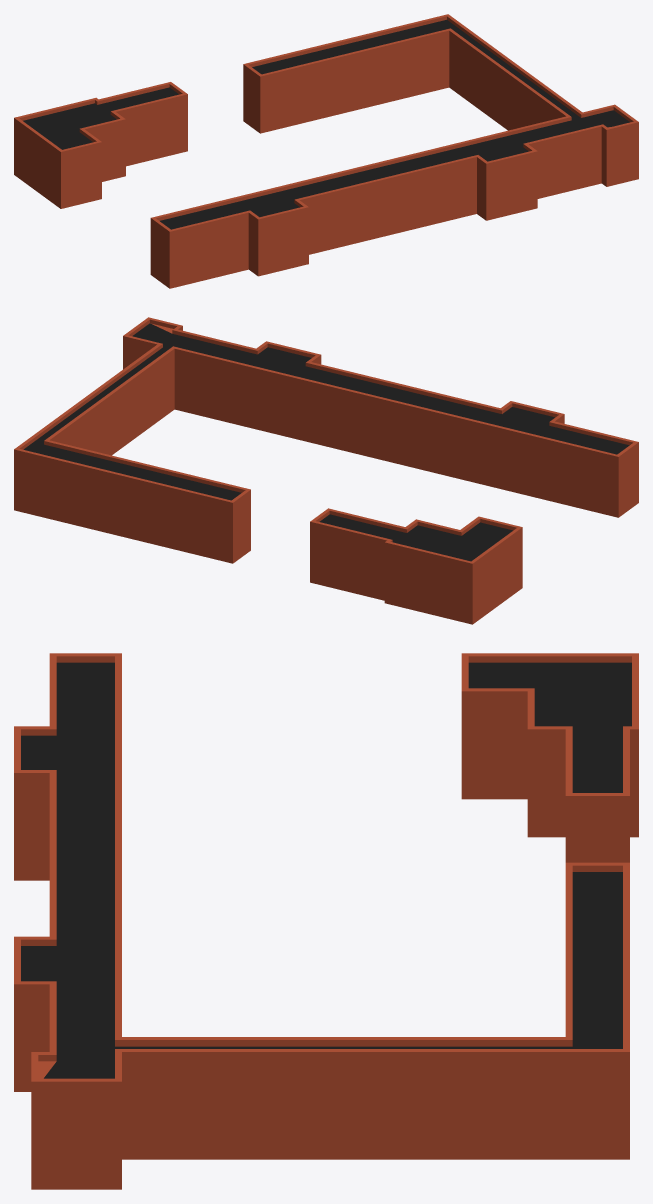
Rendered from mesh_SynagogueRuinsFrame.fbx.
The picture shows the model from 3 angles, top to bottom: view 1: azimuth 30°, elevation 25°; view 2: azimuth 150°, elevation 25°; view 3: azimuth 270°, elevation 25°; orthographic projection. The views are drawn at different scales.
Parts seen in each view (by area): view 1: mesh_SynagogueRuinsFrame; view 2: mesh_SynagogueRuinsFrame; view 3: mesh_SynagogueRuinsFrame.
Part boxes in pixels (bbox=[...]): mesh_SynagogueRuinsFrame: bbox=[14, 14, 638, 288]; mesh_SynagogueRuinsFrame: bbox=[14, 317, 638, 624]; mesh_SynagogueRuinsFrame: bbox=[14, 653, 638, 1189].
Size of the model in its own units: 1703 by 200 by 1050.
